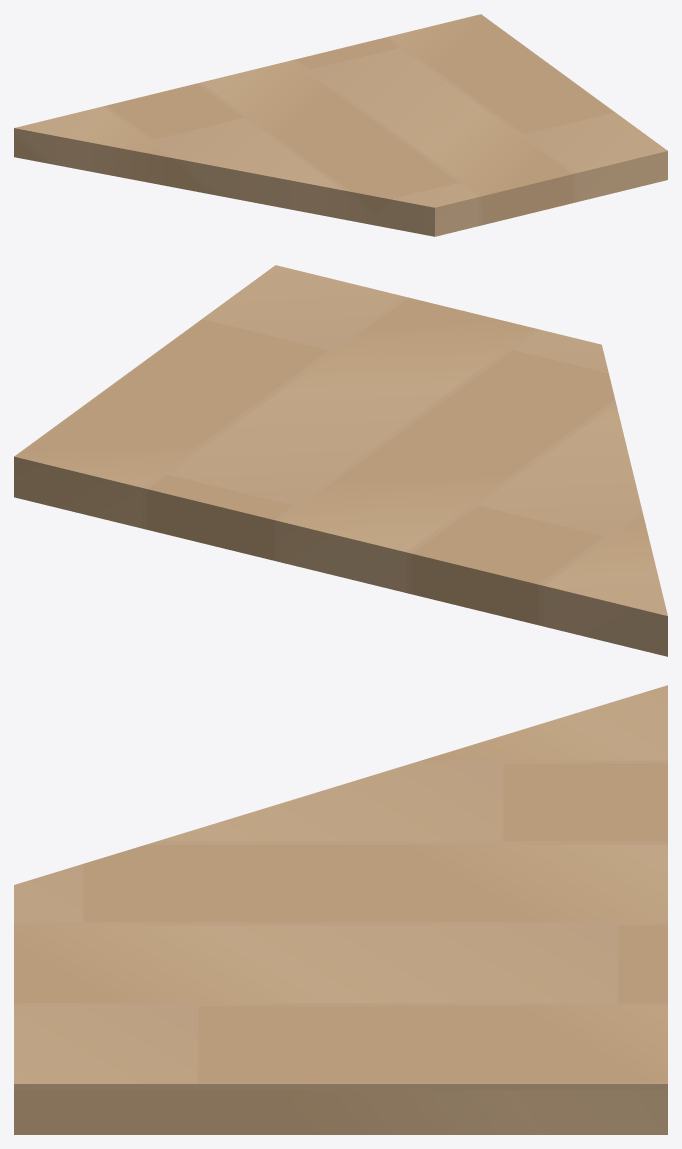
Rendered from parede_diagonal.fbx.
3 renders of one model, top to bottom at view 1: azimuth 30°, elevation 25°; view 2: azimuth 150°, elevation 25°; view 3: azimuth 270°, elevation 25°, orthographic. The views are drawn at different scales.
Visible parts, largest first — view 1: parede_diagonal; view 2: parede_diagonal; view 3: parede_diagonal.
Part boxes in pixels (bbox=[...]): parede_diagonal: bbox=[14, 14, 667, 236]; parede_diagonal: bbox=[14, 265, 667, 656]; parede_diagonal: bbox=[14, 685, 667, 1134].
Bounding box in the file's own units: 379 × 22.55 × 263.
Materials: 1 (1 with a texture image).
